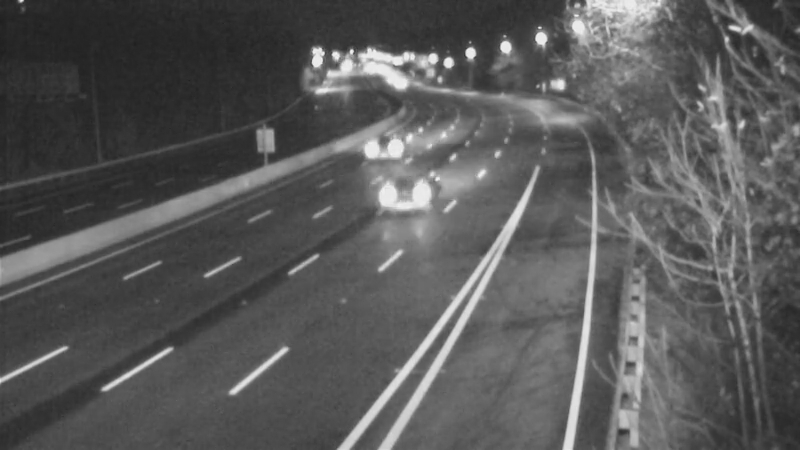vehicle: (365, 149, 445, 229), (362, 124, 412, 174)
